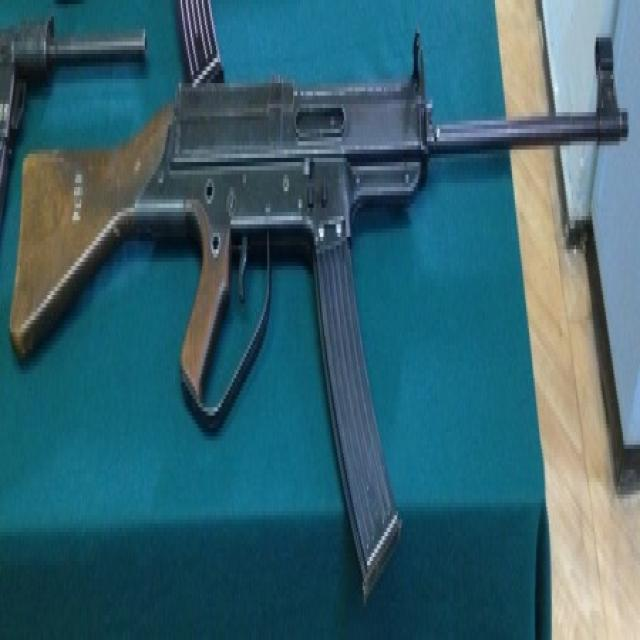rifle: (10, 15, 633, 610)
